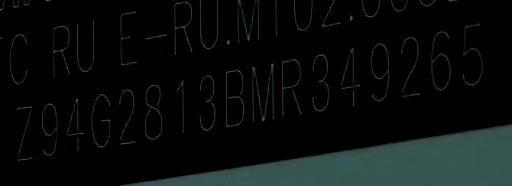letter: (248, 60, 278, 130), (428, 25, 458, 94), (367, 36, 397, 105), (397, 31, 427, 99), (218, 67, 248, 131), (337, 41, 365, 107), (460, 20, 488, 85), (308, 48, 334, 114), (279, 52, 305, 118), (63, 91, 89, 156), (141, 81, 167, 145), (115, 84, 141, 148), (90, 89, 116, 153), (193, 71, 219, 133), (170, 75, 196, 137), (38, 94, 62, 161), (14, 100, 38, 165)
